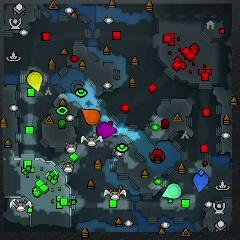p1: (193, 172, 209, 192)
p2: (163, 183, 181, 199)
p3: (97, 122, 116, 138)
p4: (27, 71, 43, 91)
p5: (81, 108, 102, 124)
